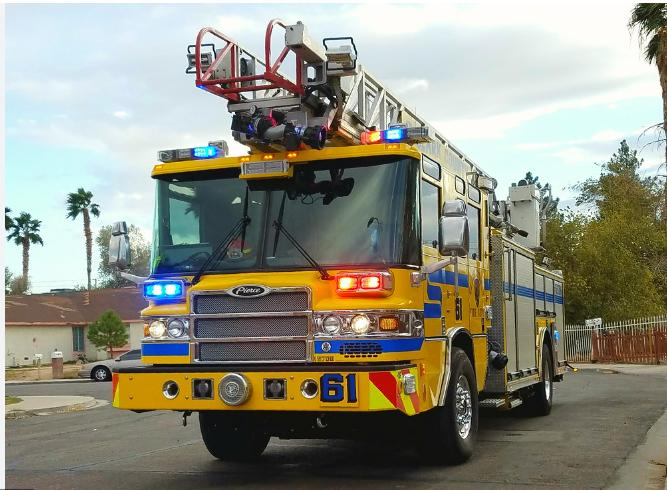firetruck_on: (111, 20, 566, 465)
